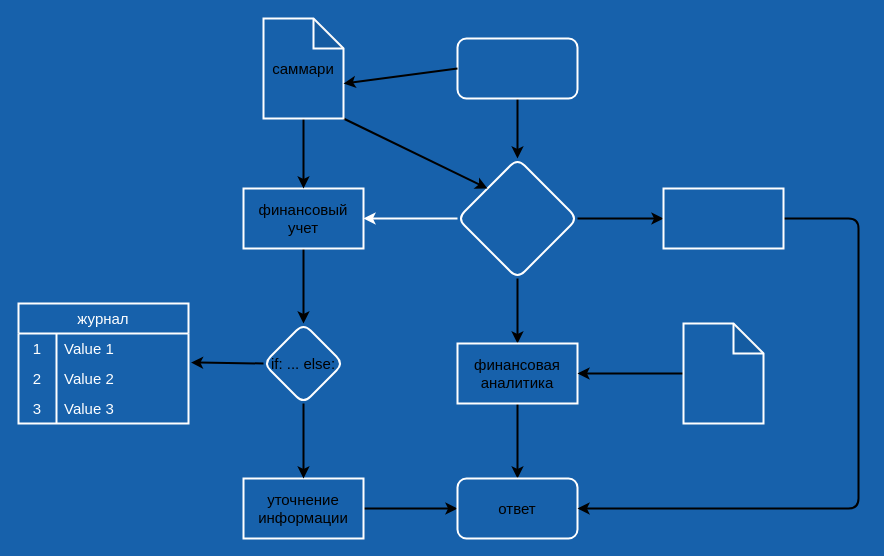
Some shapes in this 884 by 556 pixel diagram are drawn without their labels. Here are the shapes that lost their labels. From the top down, the centre of each, then its label:
At pixel 517 68: "запрос клиента".
At pixel 517 218: "роутер".
At pixel 723 218: "шутка".
At pixel 723 373: "ОДДС".
